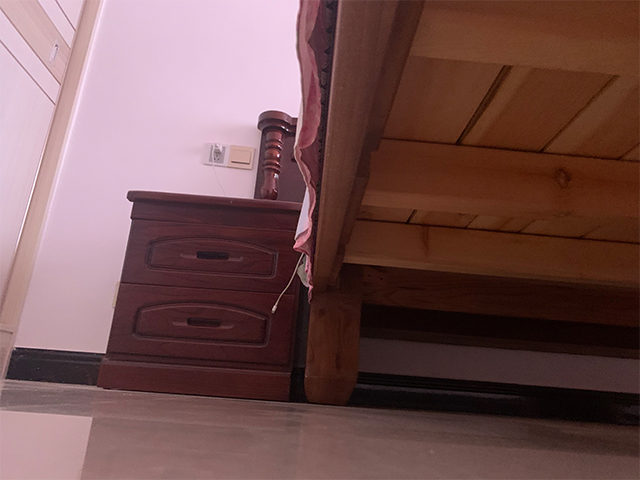bed: (253, 1, 640, 406)
cabinet: (95, 189, 304, 404)
